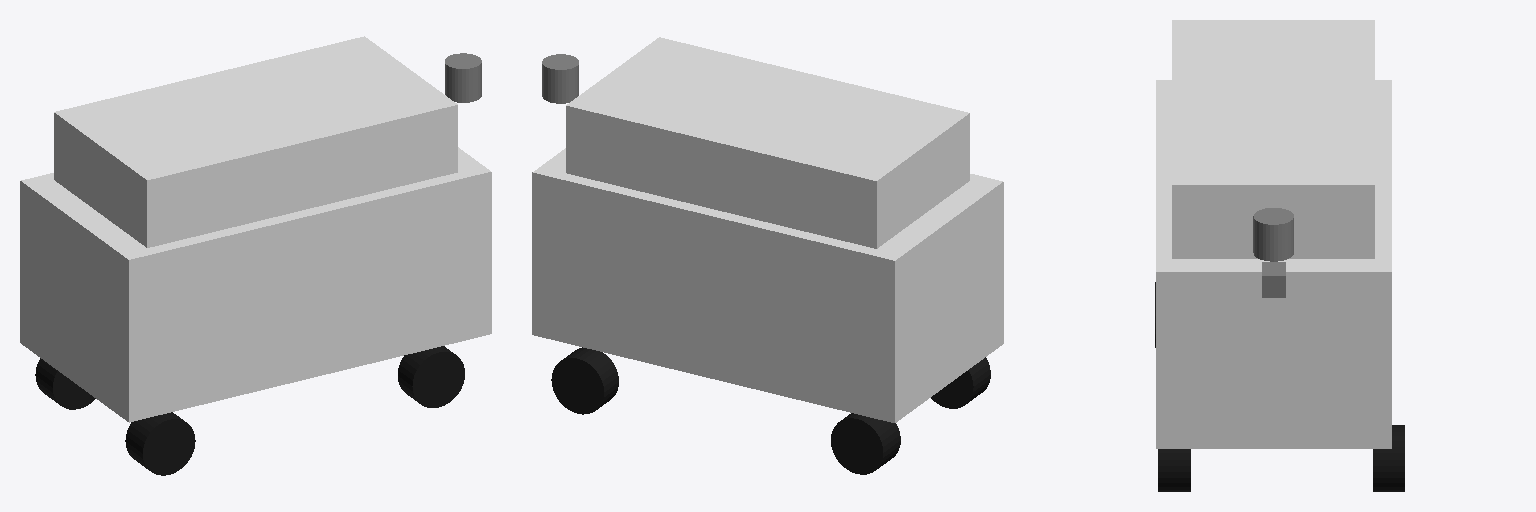
The robot description file, URDF, robot "R1_rviz":
<?xml version="1.0" encoding="utf-8"?>
<robot name="R1_rviz">
  <material name="frame_white">
    <color rgba="0.92 0.92 0.92 1.0" />
  </material>
  <material name="wheel_black">
    <color rgba="0.15 0.15 0.15 1.0" />
  </material>
  <material name="sensor_gray">
    <color rgba="0.55 0.55 0.55 1.0" />
  </material>

  <link name="base_footprint" />

  <joint name="base_footprint_joint" type="fixed">
    <origin xyz="0 0 0.04075" rpy="0 0 0" />
    <parent link="base_footprint" />
    <child link="base_link" />
  </joint>

  <link name="base_link">
    <visual>
      <origin xyz="0.02 0 0.17" rpy="0 0 0" />
      <geometry>
        <box size="0.56 0.29 0.24" />
      </geometry>
      <material name="frame_white" />
    </visual>
    <visual>
      <origin xyz="0.02 0 0.34" rpy="0 0 0" />
      <geometry>
        <box size="0.48 0.25 0.10" />
      </geometry>
      <material name="frame_white" />
    </visual>
  </link>

  <link name="front_left_steering_link" />

  <link name="front_right_steering_link" />

  <link name="Empty_Link1">
    <visual>
      <origin xyz="0 0 0" rpy="1.57079632679 0 0" />
      <geometry>
        <cylinder radius="0.04075" length="0.040" />
      </geometry>
      <material name="wheel_black" />
    </visual>
  </link>

  <joint name="front_left_steering_joint" type="revolute">
    <origin xyz="0.220127909860013 0.142085316479216 0.04075" rpy="0 0 0" />
    <parent link="base_link" />
    <child link="front_left_steering_link" />
    <axis xyz="0 0 1" />
    <limit lower="-0.6" upper="0.6" effort="30" velocity="4" />
  </joint>

  <joint name="front_left_wheel_joint" type="continuous">
    <origin xyz="0 0 -0.04075" rpy="0 0 0" />
    <parent link="front_left_steering_link" />
    <child link="Empty_Link1" />
    <axis xyz="0 1 0" />
  </joint>

  <link name="Empty_Link2">
    <visual>
      <origin xyz="0 0 0" rpy="1.57079632679 0 0" />
      <geometry>
        <cylinder radius="0.04075" length="0.040" />
      </geometry>
      <material name="wheel_black" />
    </visual>
  </link>

  <joint name="front_right_steering_joint" type="revolute">
    <origin xyz="0.220127909860013 -0.122535316479216 0.04075" rpy="0 0 0" />
    <parent link="base_link" />
    <child link="front_right_steering_link" />
    <axis xyz="0 0 1" />
    <limit lower="-0.6" upper="0.6" effort="30" velocity="4" />
  </joint>

  <joint name="front_right_wheel_joint" type="continuous">
    <origin xyz="0 0 -0.04075" rpy="0 0 0" />
    <parent link="front_right_steering_link" />
    <child link="Empty_Link2" />
    <axis xyz="0 -1 0" />
  </joint>

  <link name="Empty_Link3">
    <visual>
      <origin xyz="0 -0.0010 0" rpy="1.57079632679 0 0" />
      <geometry>
        <cylinder radius="0.04075" length="0.0465" />
      </geometry>
      <material name="wheel_black" />
    </visual>
  </link>

  <joint name="rear_right_wheel_joint" type="continuous">
    <origin xyz="-0.19879978611665 -0.122535316479219 0.0" rpy="0 0 0" />
    <parent link="base_link" />
    <child link="Empty_Link3" />
    <axis xyz="0 -1 0" />
  </joint>

  <link name="Empty_Link4">
    <visual>
      <origin xyz="0 -0.0020 0" rpy="1.57079632679 0 0" />
      <geometry>
        <cylinder radius="0.04075" length="0.0465" />
      </geometry>
      <material name="wheel_black" />
    </visual>
  </link>

  <joint name="rear_left_wheel_joint" type="continuous">
    <origin xyz="-0.19879978611665 0.119285316479219 0.0" rpy="0 0 0" />
    <parent link="base_link" />
    <child link="Empty_Link4" />
    <axis xyz="0 1 0" />
  </joint>

  <link name="imu_link">
    <visual>
      <origin xyz="0 0 0" rpy="0 0 0" />
      <geometry>
        <box size="0.03 0.03 0.015" />
      </geometry>
      <material name="sensor_gray" />
    </visual>
  </link>

  <joint name="imu_joint" type="fixed">
    <origin xyz="0.02 0 0.22" rpy="0 0 0" />
    <parent link="base_link" />
    <child link="imu_link" />
  </joint>

  <link name="laser_link">
    <visual>
      <origin xyz="0 0 0" rpy="0 0 0" />
      <geometry>
        <cylinder radius="0.025" length="0.05" />
      </geometry>
      <material name="sensor_gray" />
    </visual>
  </link>

  <joint name="laser_joint" type="fixed">
    <origin xyz="0.34 0 0.36" rpy="0 0 0" />
    <parent link="base_link" />
    <child link="laser_link" />
  </joint>

  <link name="camera_link">
    <visual>
      <origin xyz="0 0 0" rpy="0 0 0" />
      <geometry>
        <box size="0.04 0.03 0.03" />
      </geometry>
      <material name="sensor_gray" />
    </visual>
  </link>

  <joint name="camera_joint" type="fixed">
    <origin xyz="0.30 0 0.28" rpy="0 0 0" />
    <parent link="base_link" />
    <child link="camera_link" />
  </joint>

  <link name="camera_optical_link" />

  <joint name="camera_optical_joint" type="fixed">
    <origin xyz="0 0 0" rpy="-1.57079632679 0 -1.57079632679" />
    <parent link="camera_link" />
    <child link="camera_optical_link" />
  </joint>
</robot>

--- Facts derived from the render (not from the file) ---
3 views of the same robot in one strip: view 1: azimuth 30°, elevation 25°; view 2: azimuth 150°, elevation 25°; view 3: azimuth 270°, elevation 25° (orthographic).
Robot: R1_rviz — 12 links, 11 joints (2 revolute, 4 continuous, 5 fixed); root link base_footprint; default pose: all joints at 0.
Links seen in each view (by area): view 1: base_link, Empty_Link3, Empty_Link2, laser_link, Empty_Link4; view 2: base_link, Empty_Link1, Empty_Link4, laser_link, Empty_Link3; view 3: base_link, laser_link, Empty_Link1, Empty_Link2, camera_link.
Boxes of the visible links, x1=… form: base_link: x1=20, y1=36, x2=491, y2=422; Empty_Link3: x1=125, y1=412, x2=195, y2=475; Empty_Link2: x1=398, y1=346, x2=464, y2=407; laser_link: x1=445, y1=53, x2=481, y2=102; Empty_Link4: x1=35, y1=358, x2=95, y2=409; base_link: x1=532, y1=37, x2=1003, y2=422; Empty_Link1: x1=551, y1=347, x2=618, y2=414; Empty_Link4: x1=831, y1=413, x2=900, y2=474; laser_link: x1=542, y1=54, x2=578, y2=103; Empty_Link3: x1=931, y1=357, x2=990, y2=408; base_link: x1=1156, y1=20, x2=1391, y2=448; laser_link: x1=1253, y1=208, x2=1293, y2=261; Empty_Link1: x1=1373, y1=425, x2=1404, y2=491; Empty_Link2: x1=1158, y1=449, x2=1190, y2=491; camera_link: x1=1262, y1=262, x2=1285, y2=297.
Size in the robot's own frame: 0.625 by 0.3089 by 0.4308 metres.
Geometry: primitives only (box / cylinder / sphere), no mesh files.
